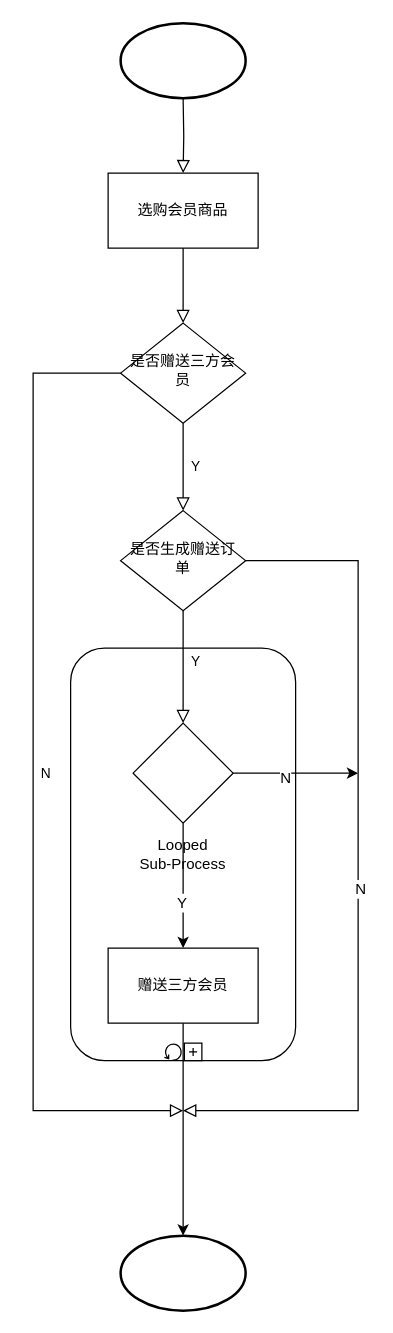
Image size: 393x1333. Some labels were removed from this diagram. The centre of each missing label's shape, as x and y in pixels:
"开始" goes at point (182, 60).
"是否领取赠品" goes at point (182, 772).
"结束" goes at point (182, 1272).
